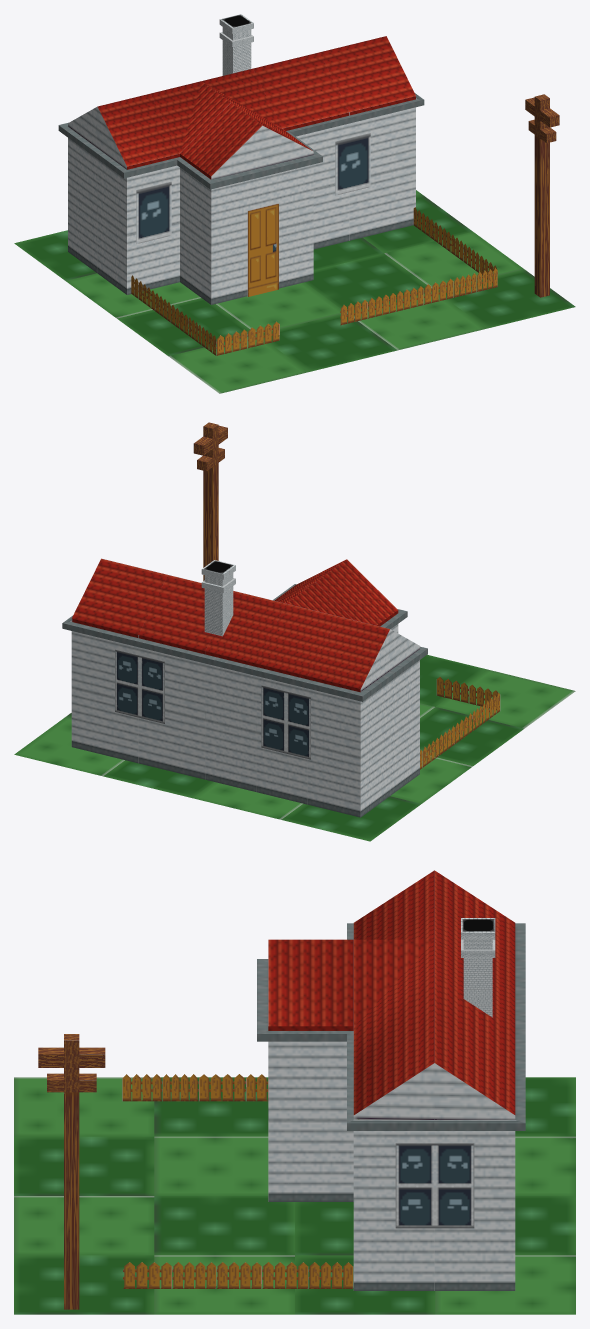
The model's file is Casa_ext_V.2.fbx.
The picture shows the model from 3 angles, top to bottom: view 1: azimuth 30°, elevation 25°; view 2: azimuth 150°, elevation 25°; view 3: azimuth 270°, elevation 25°; orthographic projection. The views are drawn at different scales.
Visible parts, largest first — view 1: Casa, Pasto, Cerco, Poste_luz, Puerta, Ventana_1, Ventana_2, Chimenea; view 2: Casa, Pasto, Ventana_4, Ventana_3, Poste_luz, Cerco, Chimenea; view 3: Casa, Pasto, Cerco, Ventana_5, Poste_luz, Chimenea.
Boxes of the visible parts, x1=… form: Casa: x1=58, y1=36, x2=424, y2=304; Pasto: x1=14, y1=190, x2=575, y2=393; Cerco: x1=131, y1=207, x2=497, y2=355; Poste_luz: x1=525, y1=94, x2=559, y2=297; Puerta: x1=247, y1=203, x2=278, y2=296; Ventana_1: x1=335, y1=133, x2=370, y2=195; Ventana_2: x1=136, y1=181, x2=171, y2=243; Chimenea: x1=219, y1=14, x2=253, y2=75; Casa: x1=62, y1=558, x2=427, y2=817; Pasto: x1=14, y1=654, x2=575, y2=841; Ventana_4: x1=115, y1=649, x2=164, y2=723; Ventana_3: x1=261, y1=685, x2=310, y2=759; Poste_luz: x1=193, y1=422, x2=227, y2=580; Cerco: x1=420, y1=677, x2=500, y2=769; Chimenea: x1=201, y1=560, x2=235, y2=636; Casa: x1=257, y1=870, x2=525, y2=1290; Pasto: x1=14, y1=1077, x2=575, y2=1314; Cerco: x1=122, y1=1074, x2=353, y2=1288; Ventana_5: x1=395, y1=1143, x2=474, y2=1228; Poste_luz: x1=38, y1=1034, x2=105, y2=1309; Chimenea: x1=461, y1=918, x2=495, y2=1017.
Size of the model in its own units: 47.3 by 26.11 by 47.3.
